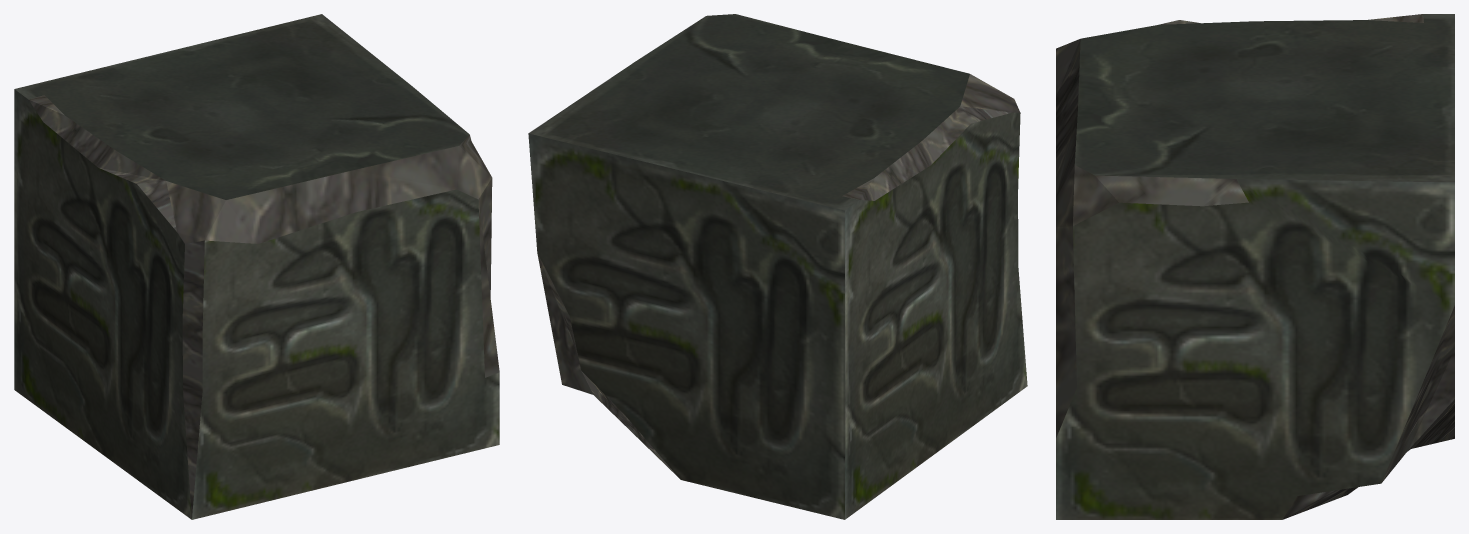
Rendered from F_tuten006.fbx.
3 renders of one model, left to right at view 1: azimuth 30°, elevation 25°; view 2: azimuth 150°, elevation 25°; view 3: azimuth 270°, elevation 25°, orthographic. The views are drawn at different scales.
Visible parts, largest first — view 1: F_tuten006; view 2: F_tuten006; view 3: F_tuten006.
Boxes of the visible parts, x1,y1,x2,y2 form: F_tuten006: (14, 14, 499, 519); F_tuten006: (528, 14, 1027, 519); F_tuten006: (1056, 14, 1454, 519).
Size of the model in its own units: 69.57 by 64.98 by 69.57.
